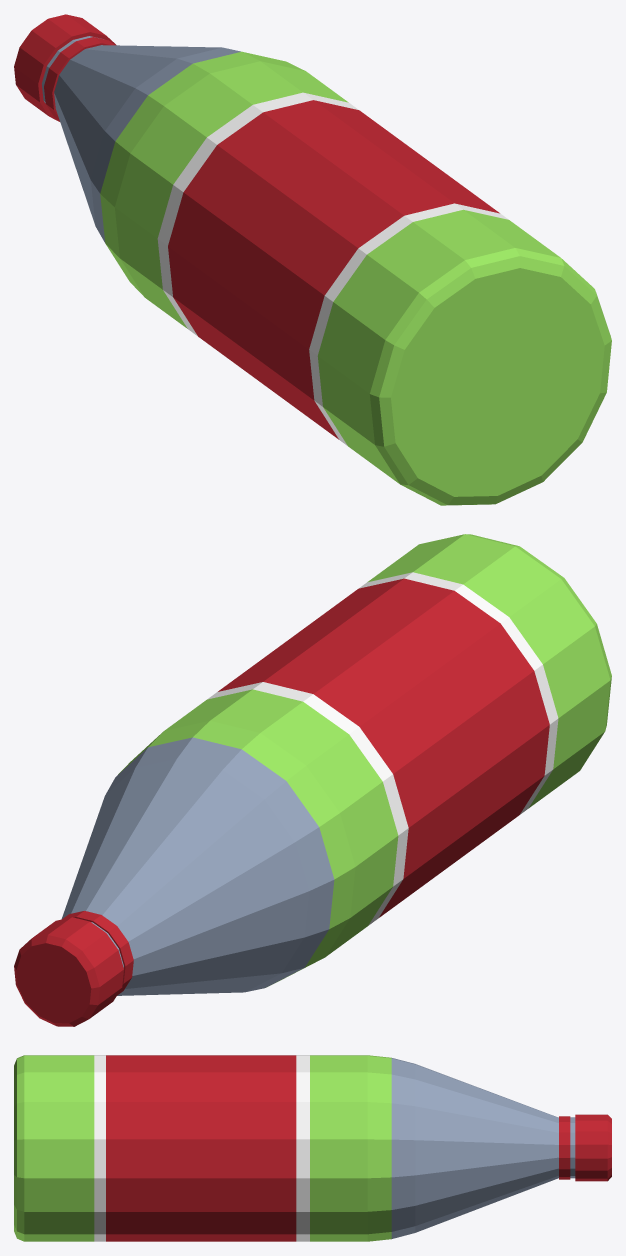
Rendered from player.fbx.
3 renders of one model, top to bottom at view 1: azimuth 30°, elevation 25°; view 2: azimuth 150°, elevation 25°; view 3: azimuth 270°, elevation 25°, orthographic. The views are drawn at different scales.
Parts seen in each view (by area): view 1: player; view 2: player; view 3: player.
Part boxes in pixels (left/top/right/bottom): player: left=14, top=14, right=611, bottom=505; player: left=14, top=534, right=611, bottom=1026; player: left=14, top=1055, right=611, bottom=1241.
Size of the model in its own units: 52.31 by 52.03 by 167.
